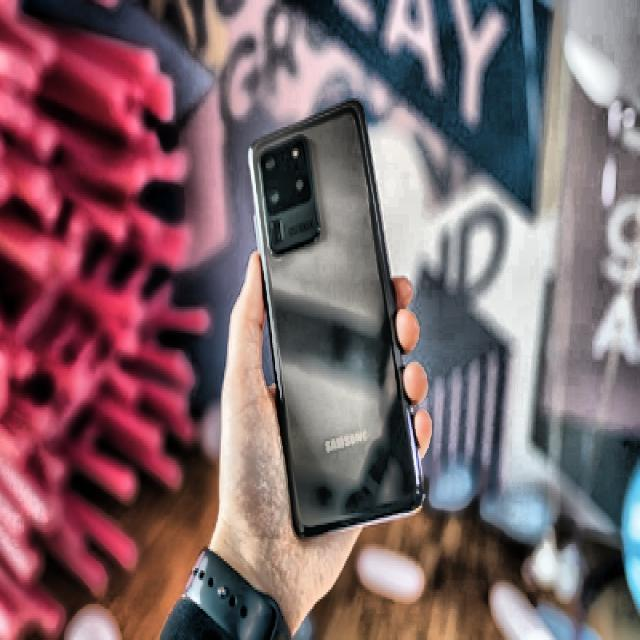Phone: (242, 98, 426, 538)
